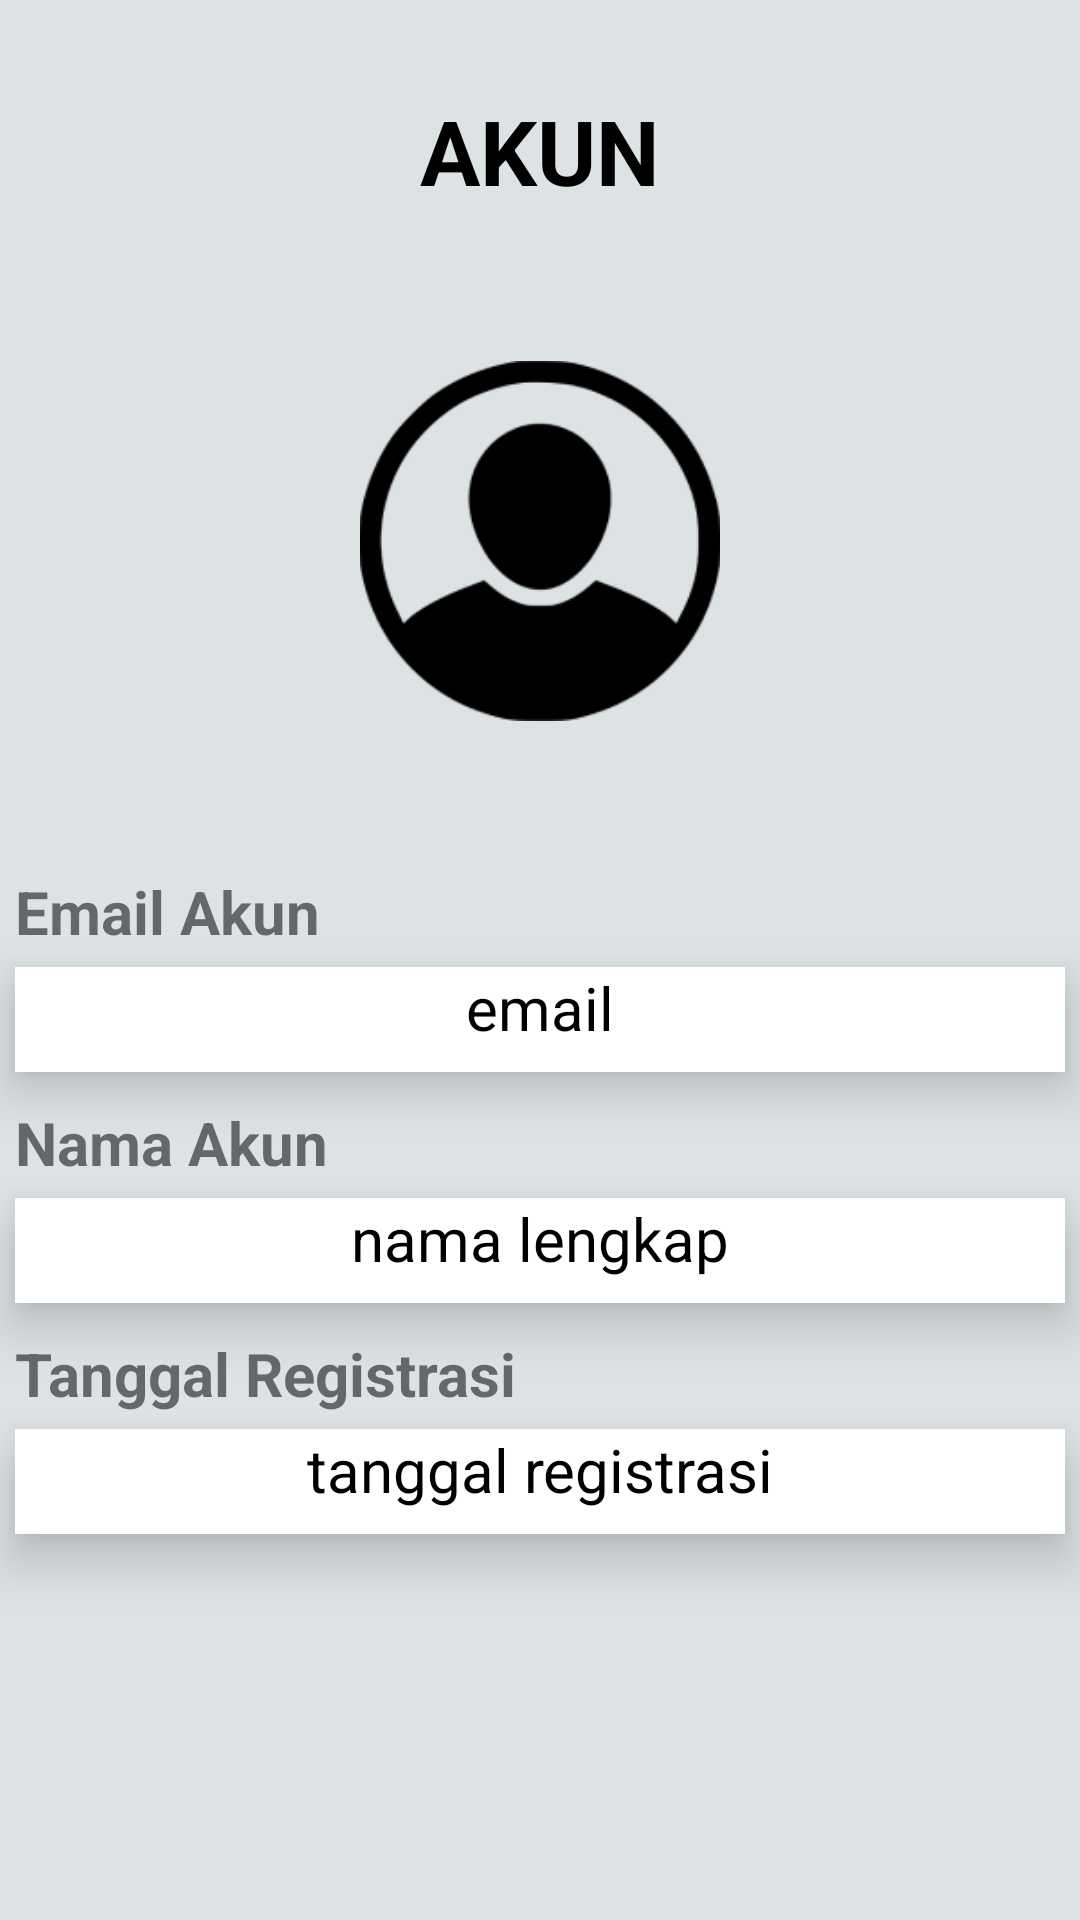

Locate icon controls on the screen. Image size 1080w x 1920h, boxes as [x1=x1, y1=y1, x2=x2, y2=y2].
acount: [x1=360, y1=361, x2=720, y2=721]
